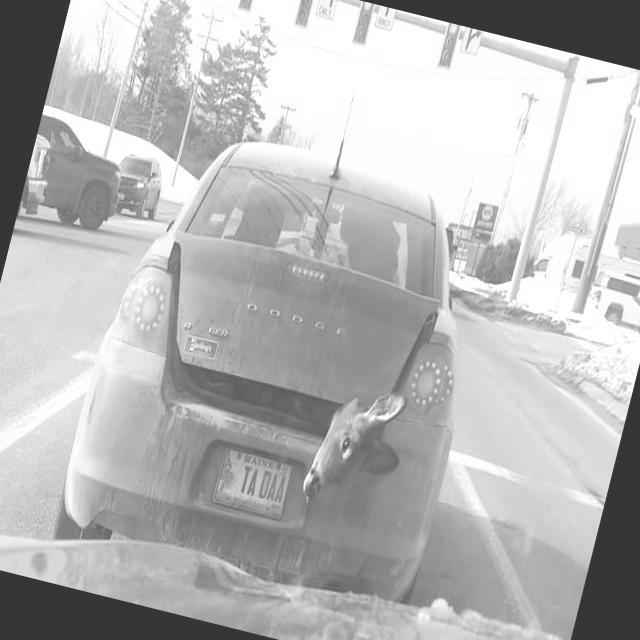LicensePlate: (211, 445, 293, 519)
